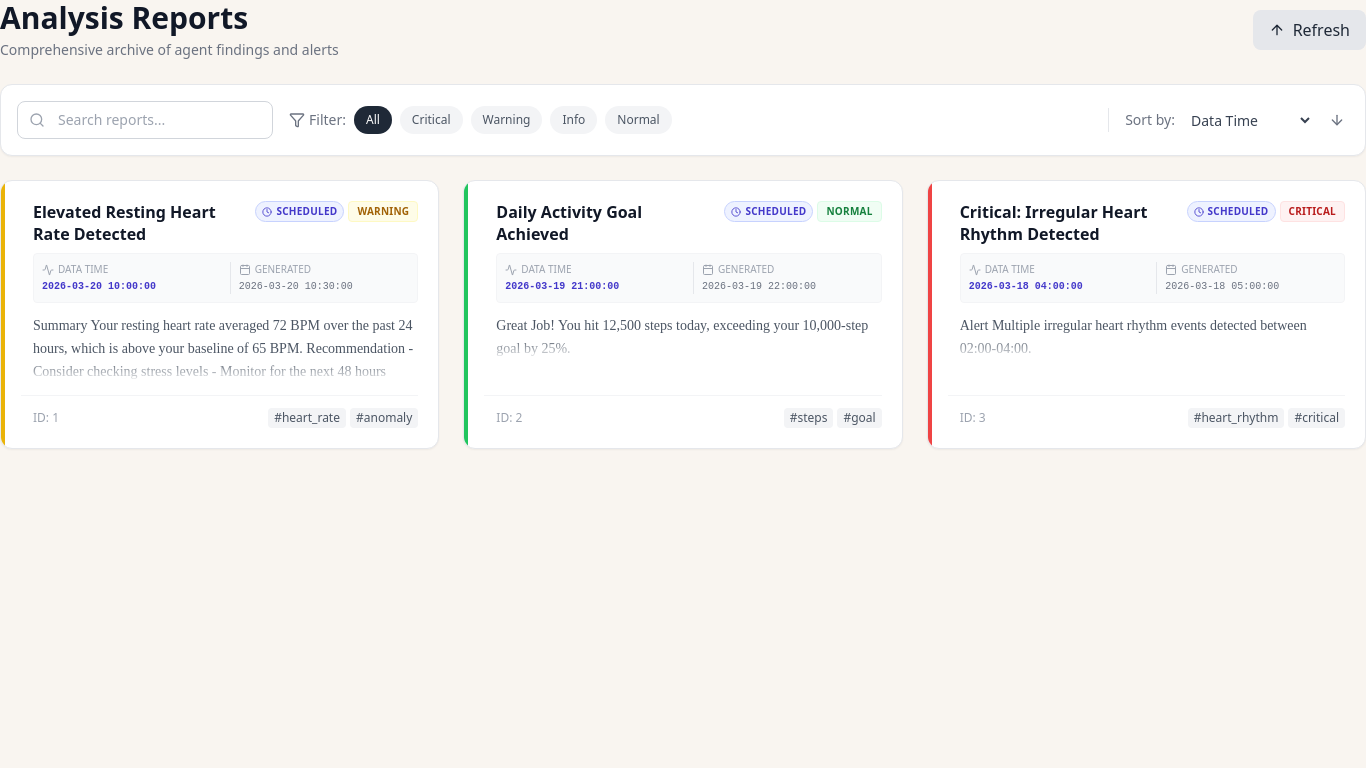
ReportsView › closes modal when Close Report button is clicked
Click the heading "Elevated Resting Heart Rate Detected".
click(140, 223)  # box [33, 201, 247, 245]
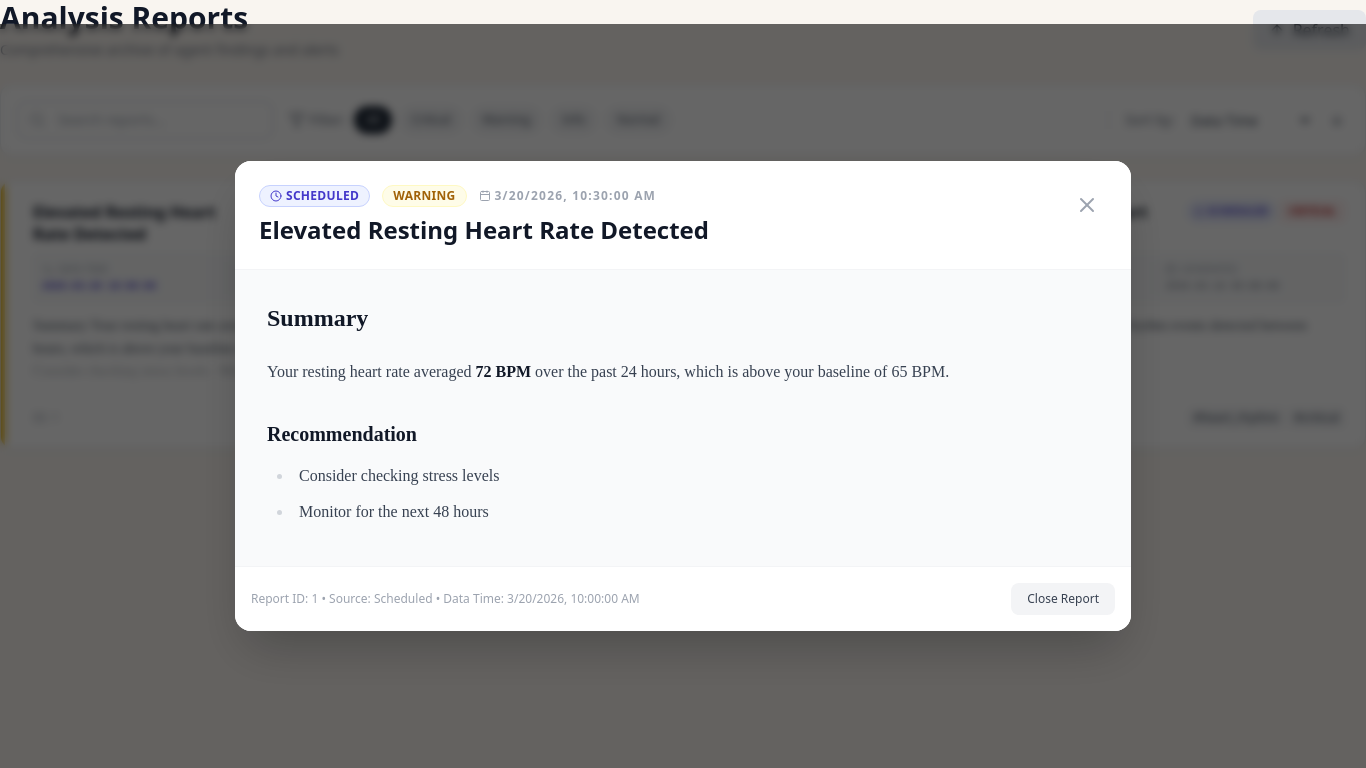
Result: the button "Close Report" is shown
Click the button "Close Report".
click(1063, 599)  # box [1011, 583, 1115, 615]
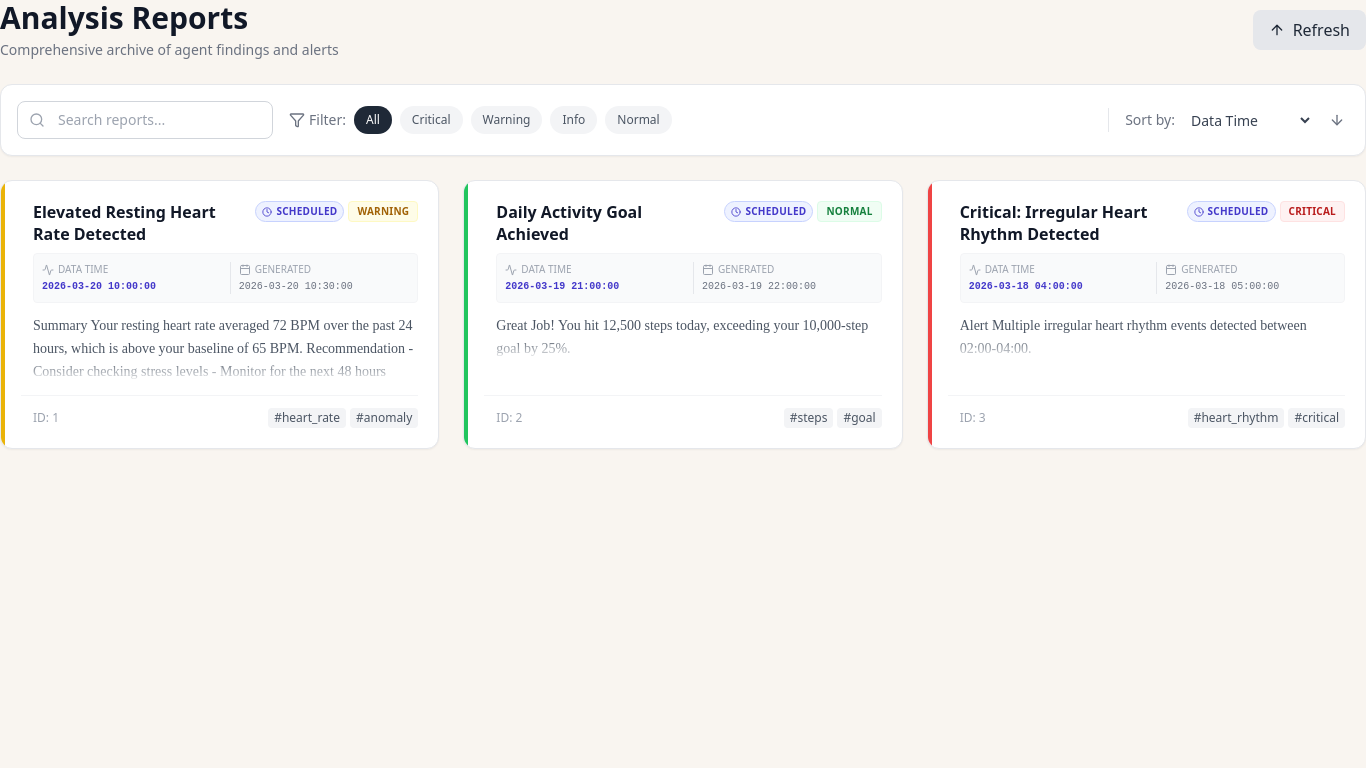
Result: the button "Close Report" is gone
